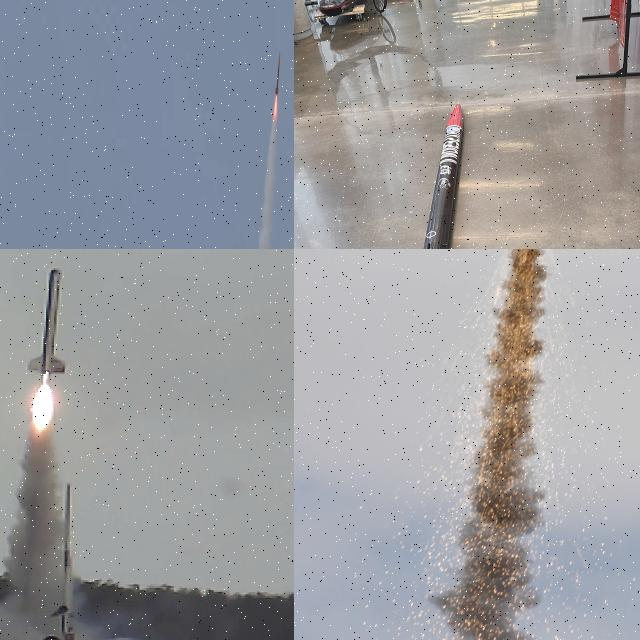Rocket: (423, 101, 465, 249), (28, 267, 68, 375), (275, 52, 280, 98)
